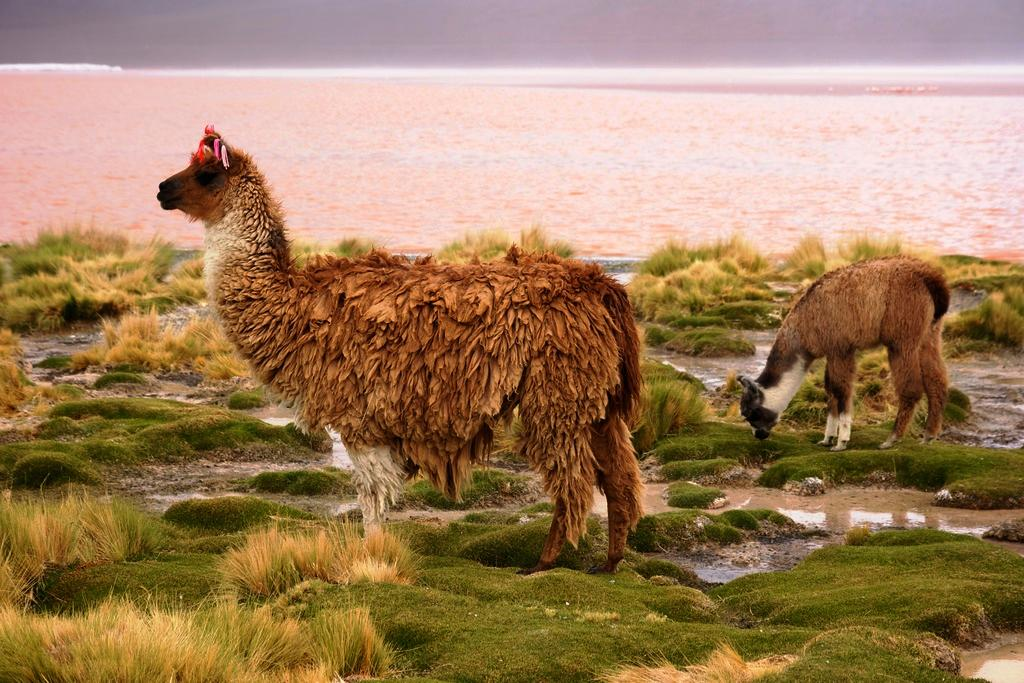Sheep: (154, 120, 648, 574), (732, 251, 948, 452)
